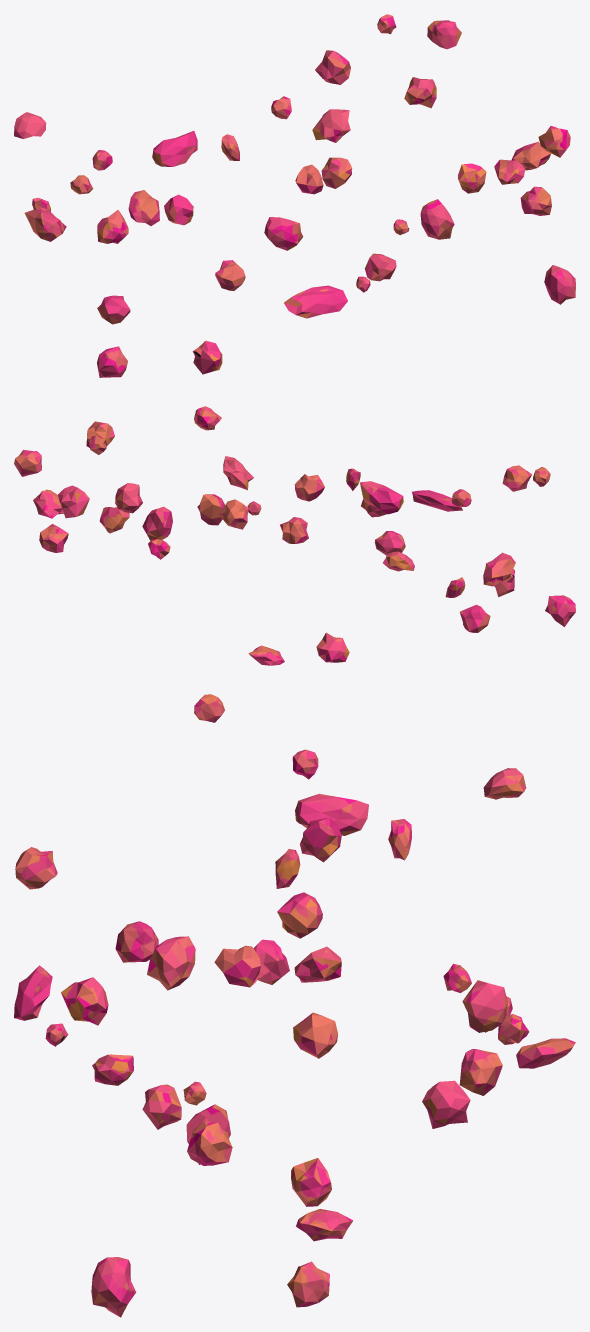
Rendered from barrier.fbx.
The picture shows the model from 3 angles, top to bottom: view 1: azimuth 30°, elevation 25°; view 2: azimuth 150°, elevation 25°; view 3: azimuth 270°, elevation 25°; orthographic projection. The views are drawn at different scales.
Visible parts, largest first — view 1: sphere.003; view 2: sphere.003; view 3: sphere.003.
Part boxes in pixels (x1,y1,x2,y2): sphere.003: (14, 14, 575, 377); sphere.003: (14, 406, 575, 665); sphere.003: (14, 694, 575, 1317).
Bounding box in the file's own units: 234 × 93.93 × 154.
Materials: 1 (1 with a texture image).
